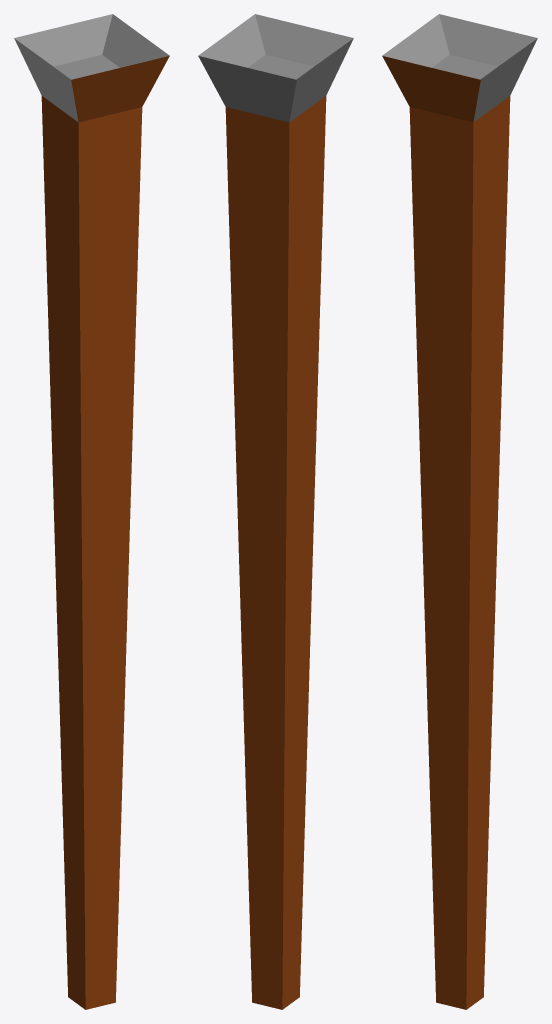
The model's file is torch.dae.
The picture shows the model from 3 angles, left to right: view 1: azimuth 30°, elevation 25°; view 2: azimuth 150°, elevation 25°; view 3: azimuth 330°, elevation 25°; orthographic projection.
Visible parts, largest first — view 1: torch; view 2: torch; view 3: torch.
Boxes of the visible parts, x1=… form: torch: x1=14, y1=14, x2=169, y2=1009; torch: x1=198, y1=14, x2=353, y2=1009; torch: x1=382, y1=14, x2=537, y2=1009.
Size of the model in its own units: 0.2302 by 0.2302 by 2.12.
